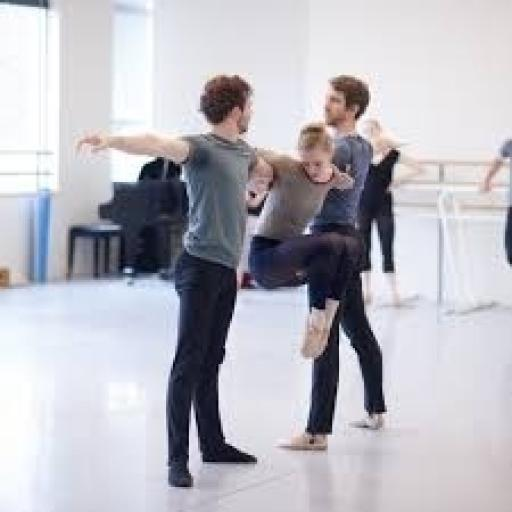dancing: (26, 53, 405, 475)
